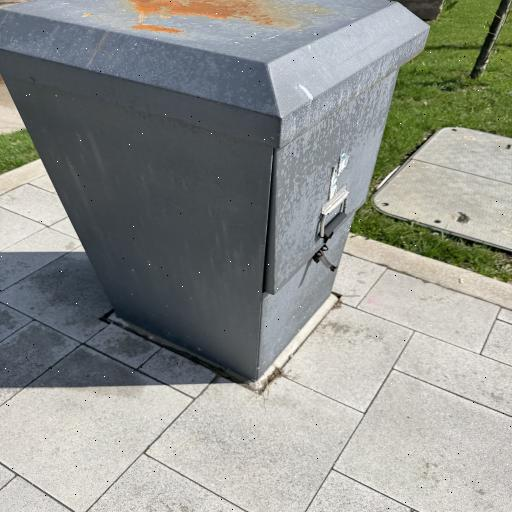Electrical Box: (1, 0, 434, 380)
